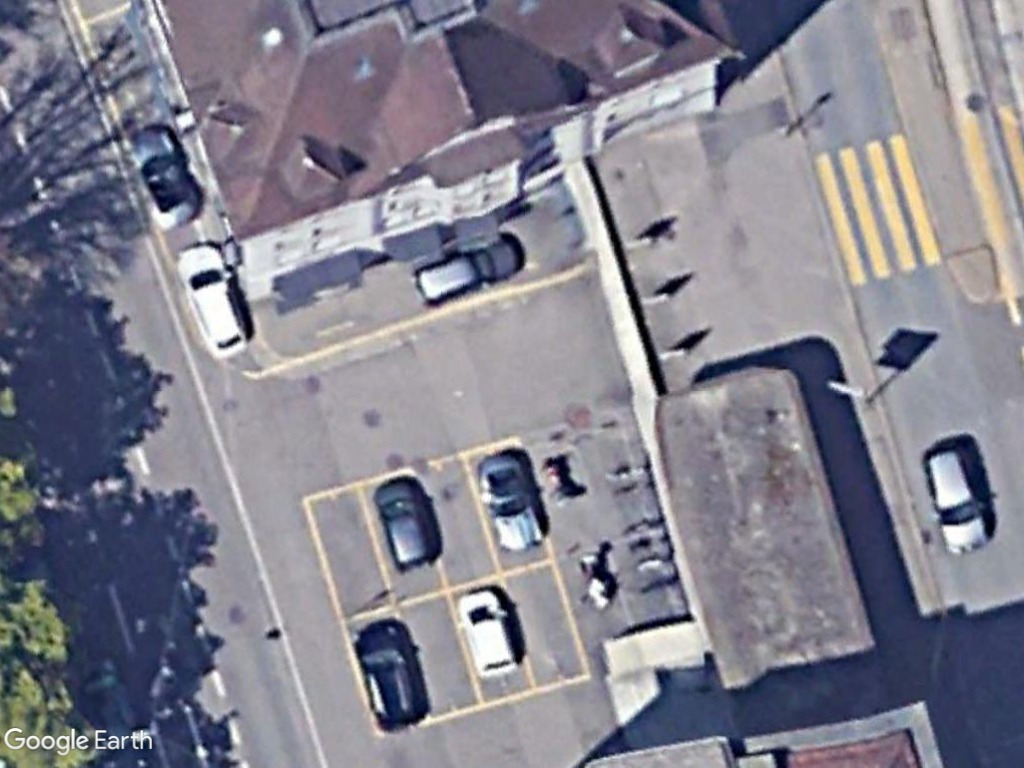car: (177, 240, 251, 362), (350, 618, 430, 729), (125, 126, 203, 232), (921, 446, 993, 558), (409, 239, 523, 309), (369, 478, 445, 574), (452, 587, 523, 679)
